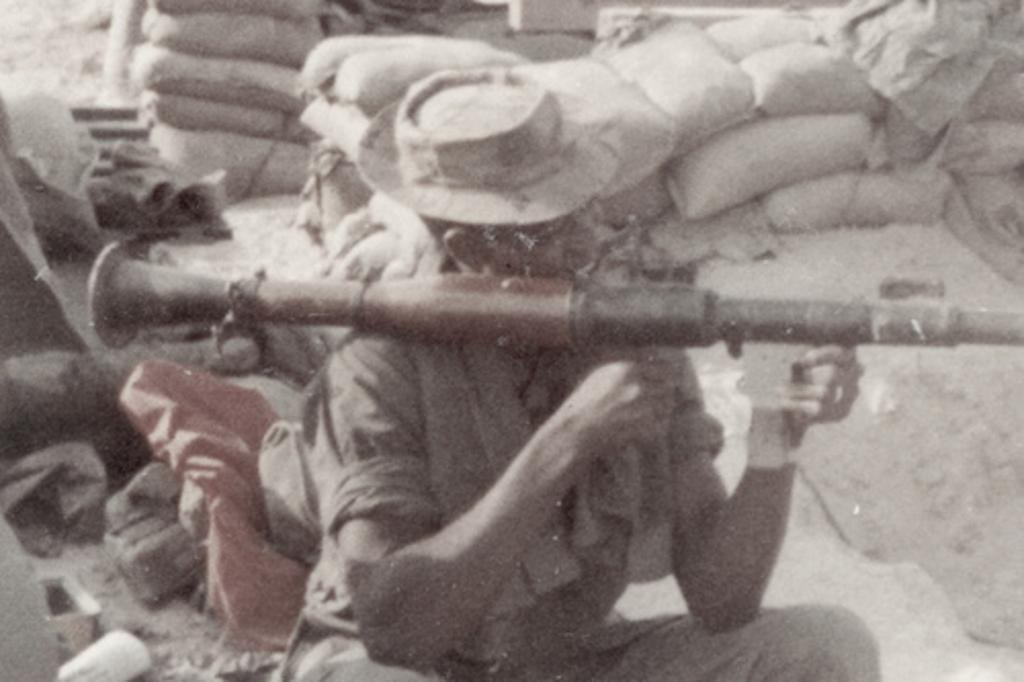face: (527, 203, 607, 315)
